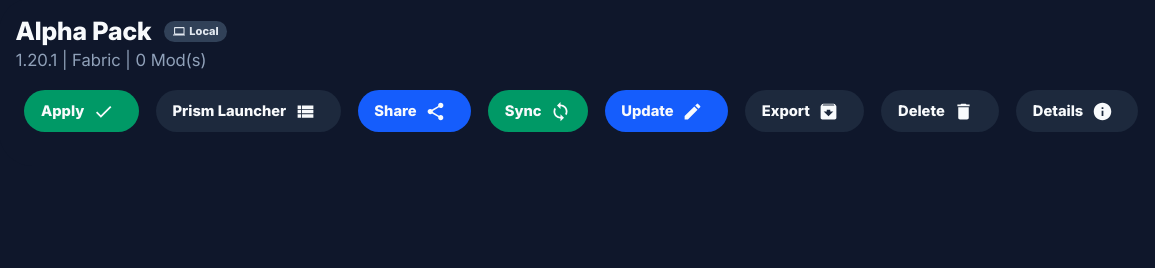
Test case: LocalModpackCard Prism Launcher menu › warns with the version and loader the host says it would write
Click the button "Prism Launcher".
click(248, 111)  # box [156, 90, 341, 132]
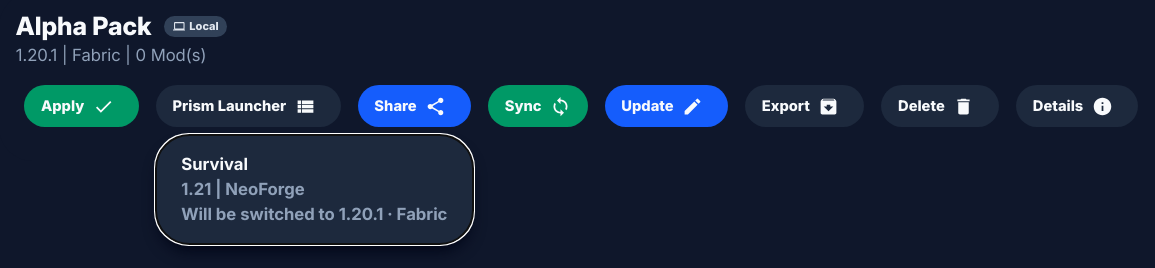
Check: the text "Will be switched to 1.20.1 · Fabric" is shown, box [181, 202, 447, 227]
